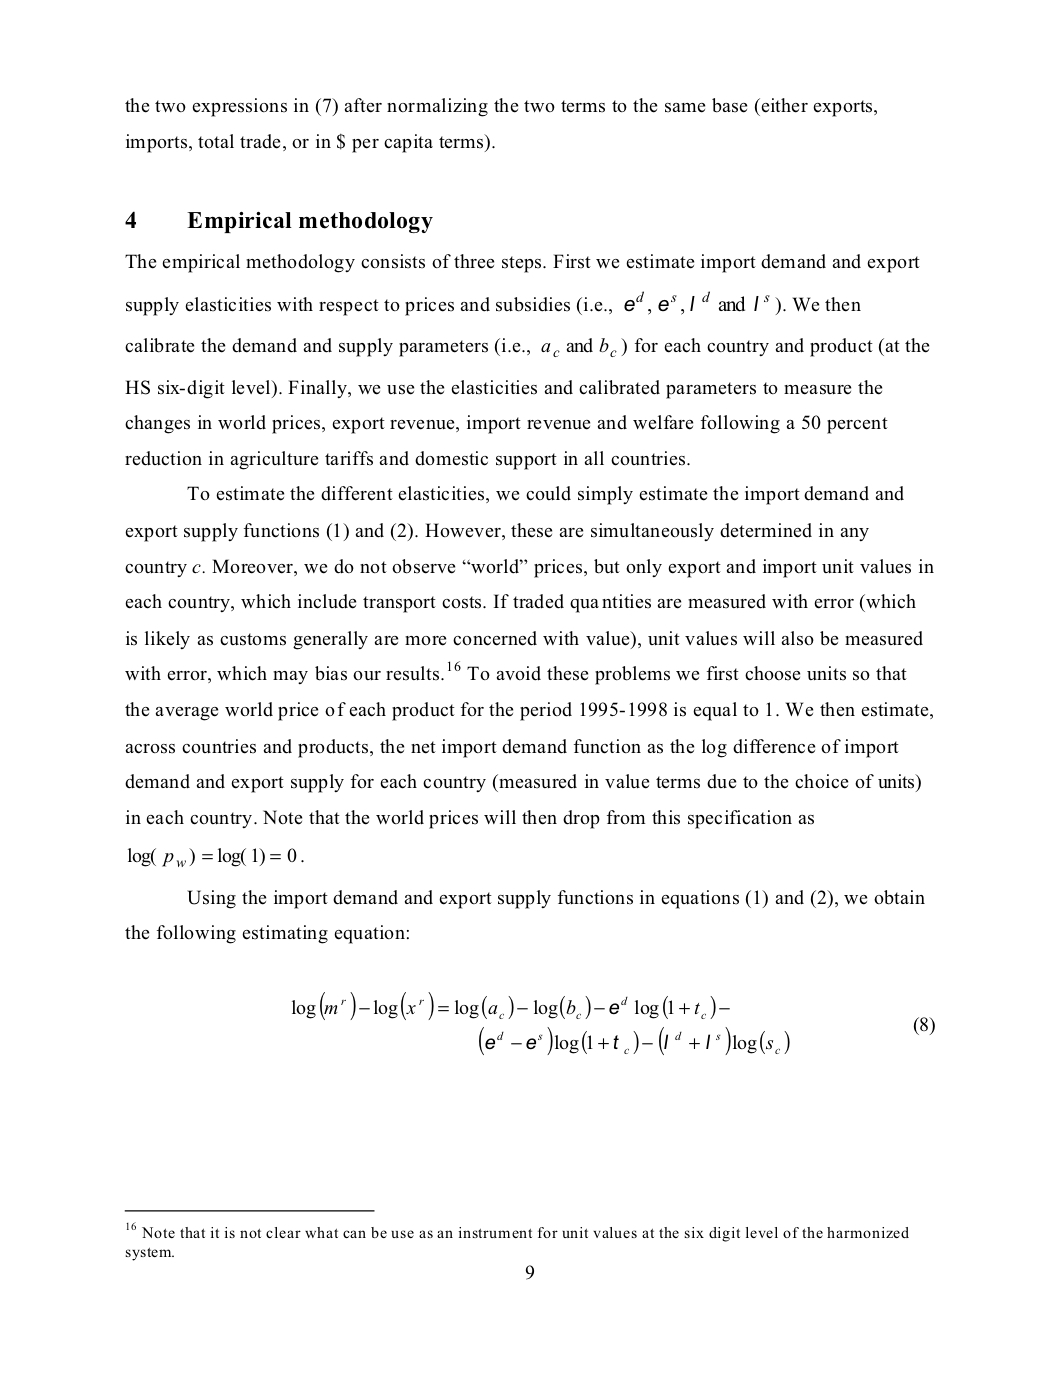figure: (124, 1208, 374, 1213)
formula: (291, 992, 729, 1020), (479, 1028, 789, 1055)
